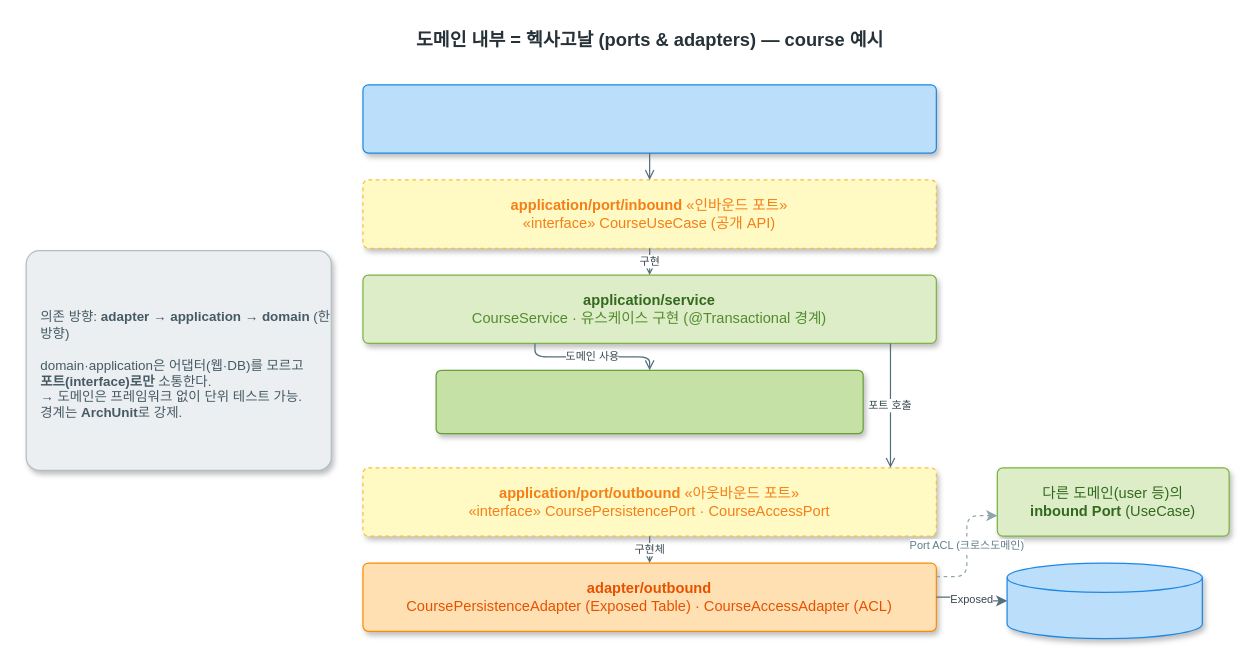
Image size: 1258x669. Some labels were removed from this diagram. Here are the shapes that lost their labels. From the top down, the centre of each, then its label:
At (x=650, y=120): "adapter/inbound/web CourseController (+ request/response DTO)".
At (x=650, y=403): "domain/model 순수 도메인 (애그리거트·불변식, 프레임워크 X)".
At (x=1105, y=602): "PostgreSQL + PostGIS".
